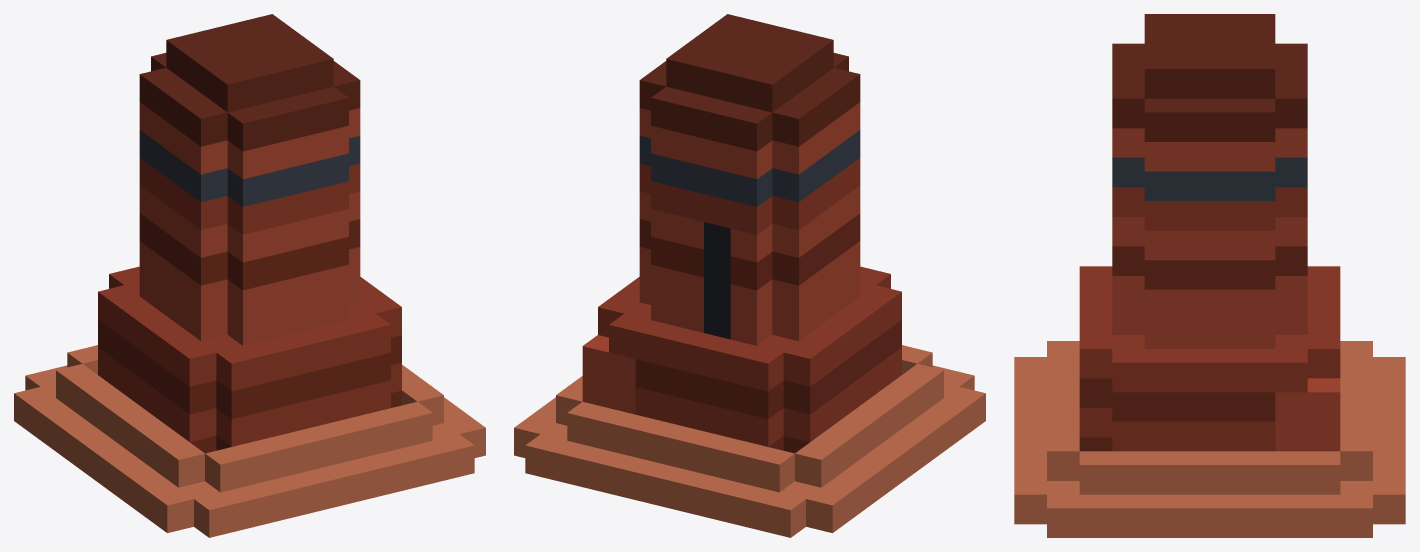
Rendered from mesa_butte_stack.glb.
3 renders of one model, left to right at view 1: azimuth 30°, elevation 25°; view 2: azimuth 150°, elevation 25°; view 3: azimuth 270°, elevation 25°, orthographic. The views are drawn at different scales.
Parts seen in each view (by area): view 1: rock; view 2: rock; view 3: rock.
Part boxes in pixels (x1,y1,x2,y2): rock: (14, 14, 485, 537); rock: (514, 14, 985, 537); rock: (1014, 14, 1405, 537).
Size of the model in its own units: 12 by 14 by 12.
